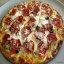olive: (43, 15, 51, 21), (34, 24, 40, 31), (14, 48, 20, 55), (48, 28, 54, 34)
pepperoni: (11, 14, 25, 31), (22, 39, 36, 53), (45, 33, 59, 44), (9, 39, 23, 49), (21, 25, 31, 38), (26, 17, 35, 27)
pizza: (1, 3, 62, 63)
